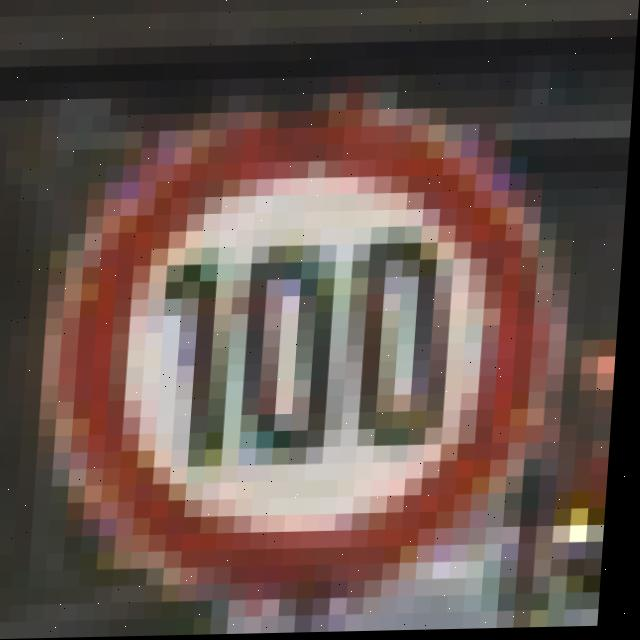speed_limit_100: (50, 103, 549, 605)
